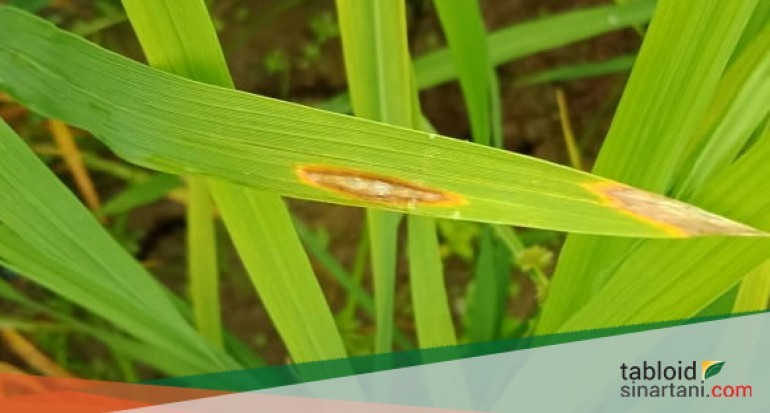Busuk Leher: (577, 175, 754, 240), (282, 154, 446, 205)
